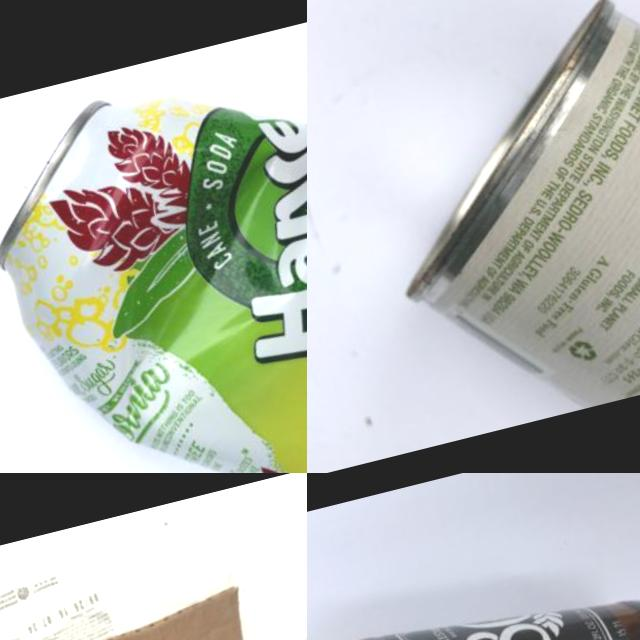garrafa de vidro: (307, 563, 640, 640)
lata: (0, 18, 307, 473), (346, 0, 640, 442)
papelão: (0, 473, 307, 640)
